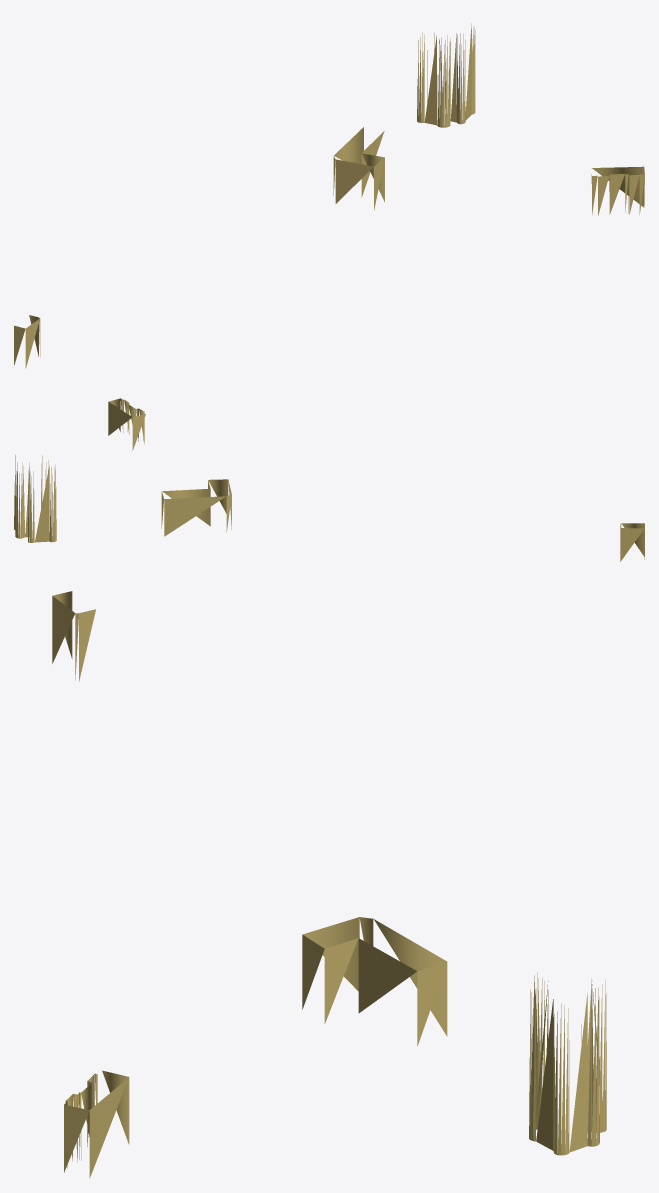
The picture shows the model from 3 angles, top to bottom: view 1: azimuth 30°, elevation 25°; view 2: azimuth 150°, elevation 25°; view 3: azimuth 270°, elevation 25°; orthographic projection. The views are drawn at different scales.
Size of the model in its own units: 810 by 112 by 365.
